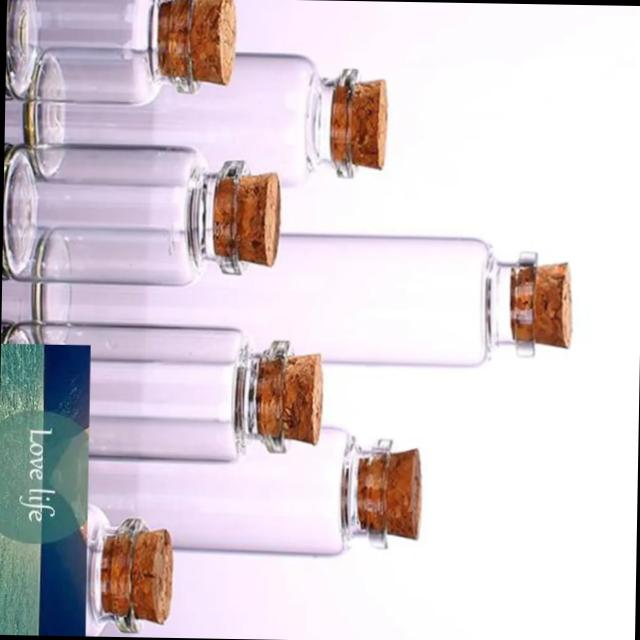glass: (30, 203, 583, 408), (58, 412, 447, 590), (26, 40, 416, 194), (0, 153, 314, 306), (3, 0, 293, 115)
